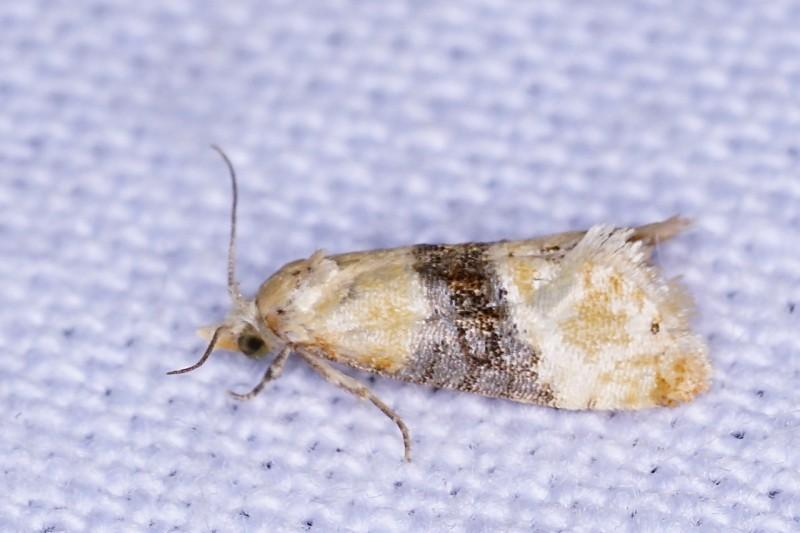Eupoecilia Ambiguella: (164, 141, 715, 464)
